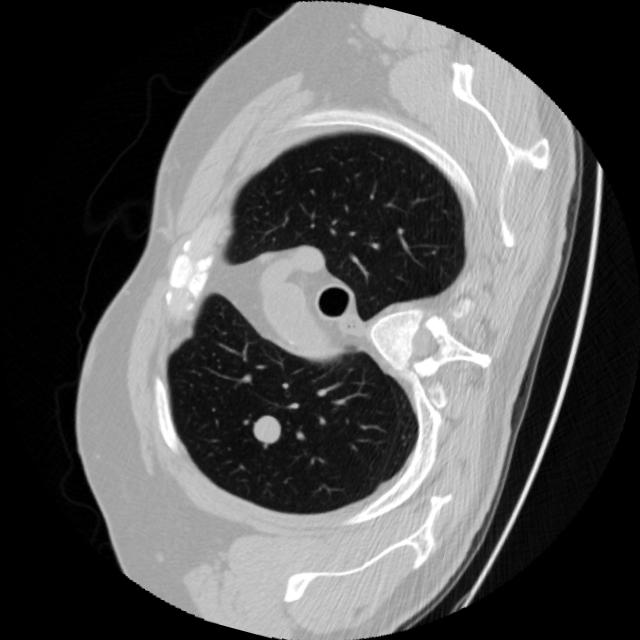nodule: (233, 394, 300, 461)
